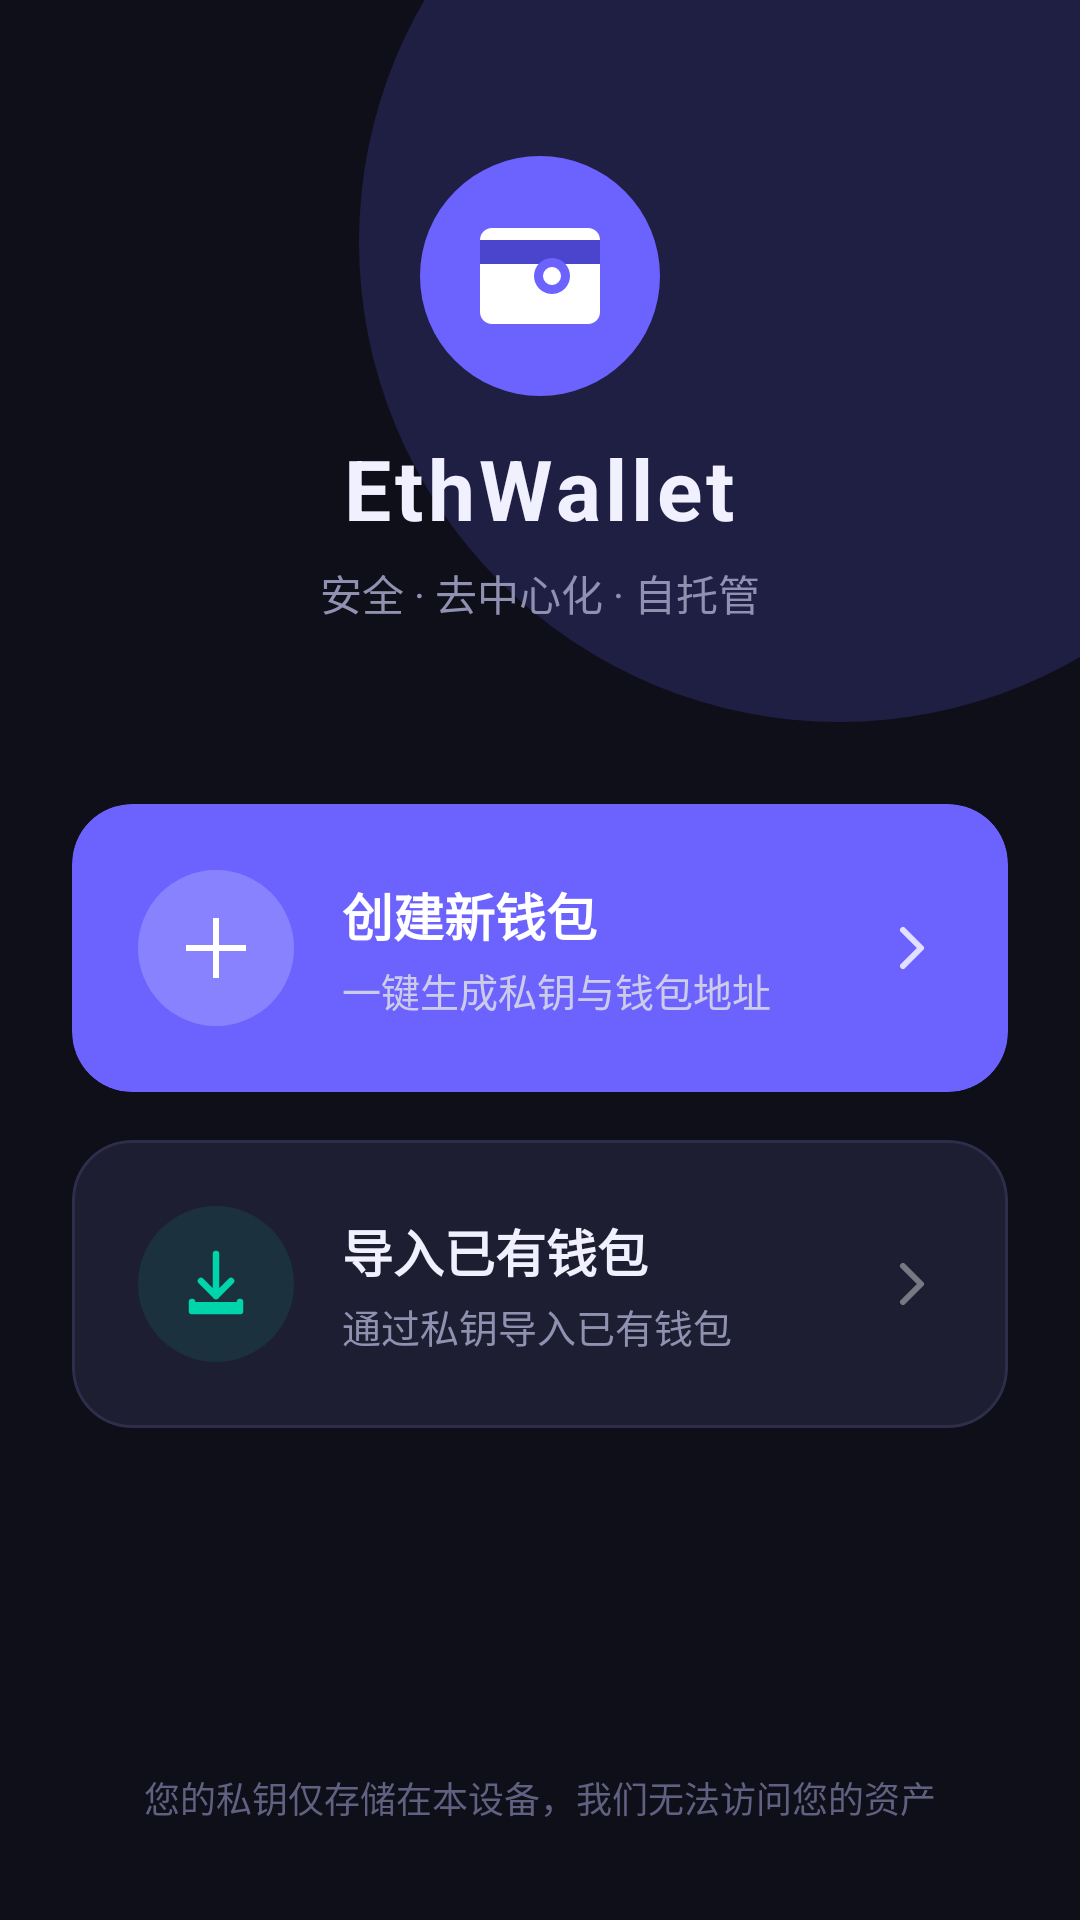

Icons on this 1080px×1920px Android screen, each with the point to tap as (x=x, y=y):
add wallet: (x=216, y=948)
arrow right: (x=912, y=948), (x=912, y=1284)
import wallet: (x=216, y=1282)
